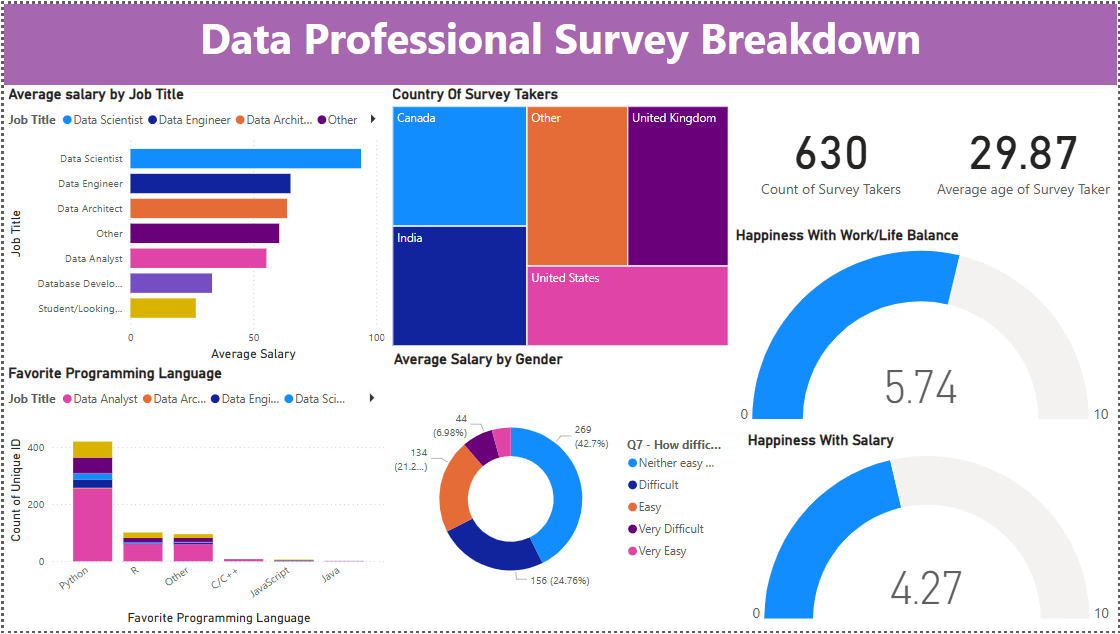

This screenshot's page, from the dashboard's own definition file:
{"tool":"powerbi","page":{"name":"Page 1","canvas":[1280,720],"ordinal":0},"visuals":[{"type":"textbox","box":[0,0,1279.2,93.9],"z":0},{"type":"card","fields":{"Values":["CountNonNull(Data Professional Survey.Unique ID)"]},"box":[836.7,93.4,227.9,160.6],"z":1000},{"type":"card","fields":{"Values":["Avg(Data Professional Survey.Q10 - Current Age)"]},"box":[1064.6,93.4,214.8,160.6],"z":2000},{"type":"barChart","title":"Average salary by Job Title","fields":{"Category":["Data Professional Survey.Q1 - Which Title Best Fits your Current Role?.1"],"Y":["Avg(Data Professional Survey.Average Salary)"],"Series":["Data Professional Survey.Q1 - Which Title Best Fits your Current Role?.1"]},"box":[0,93.4,442.6,321.2],"z":3000},{"type":"columnChart","title":"Favorite Programming Language ","fields":{"Category":["Data Professional Survey.Q5 - Favorite Programming Language.1"],"Y":["CountNonNull(Data Professional Survey.Unique ID)"],"Series":["Data Professional Survey.Q1 - Which Title Best Fits your Current Role?.1"]},"box":[0,414.6,442.6,304.4],"z":4000},{"type":"treemap","title":"Country Of Survey Takers","fields":{"Group":["Data Professional Survey.Q11 - Which Country do you live in?.1"],"Values":["Count(Data Professional Survey.Q11 - Which Country do you live in?.1)"]},"box":[440.8,93.4,396,304.4],"z":5000},{"type":"gauge","title":"Happiness With Work/Life Balance ","fields":{"Y":["Avg(Data Professional Survey.Q6 - How Happy are you in your Current Position with the following? (Work/Life Balance))"],"MinValue":["Min(Data Professional Survey.Q6 - How Happy are you in your Current Position with the following? (Work/Life Balance))"],"MaxValue":["Max(Data Professional Survey.Q6 - How Happy are you in your Current Position with the following? (Work/Life Balance))1"]},"box":[836.7,255.9,442.6,235.3],"z":6000},{"type":"gauge","title":"Happiness With Salary","fields":{"Y":["Avg(Data Professional Survey.Q6 - How Happy are you in your Current Position with the following? (Salary))"],"MinValue":["Min(Data Professional Survey.Q6 - How Happy are you in your Current Position with the following? (Salary))"],"MaxValue":["Max(Data Professional Survey.Q6 - How Happy are you in your Current Position with the following? (Salary))"]},"box":[849.8,491.2,429.6,227.9],"z":7000},{"type":"donutChart","title":"Average Salary by Gender","fields":{"Category":["Data Professional Survey.Q7 - How difficult was it for you to break into Data?"],"Y":["CountNonNull(Data Professional Survey.Q7 - How difficult was it for you to break into Data?)"]},"box":[442.6,397.8,394.1,321.2],"z":8000}]}

Visuals, with their boxes in screenshot pixels (x1, y1, x2, y2), scaled from the page's 1280x720 canvas onto the 1120x634 screenshot:
textbox: Rect(0, 0, 1119, 83)
card - CountNonNull(Data Professional Survey.Unique ID): Rect(732, 82, 932, 224)
card - Avg(Data Professional Survey.Q10 - Current Age): Rect(932, 82, 1119, 224)
"Average salary by Job Title" barChart: Rect(0, 82, 387, 365)
"Favorite Programming Language " columnChart: Rect(0, 365, 387, 633)
"Country Of Survey Takers" treemap: Rect(386, 82, 732, 350)
"Happiness With Work/Life Balance " gauge: Rect(732, 225, 1119, 433)
"Happiness With Salary" gauge: Rect(744, 433, 1119, 633)
"Average Salary by Gender" donutChart: Rect(387, 350, 732, 633)
